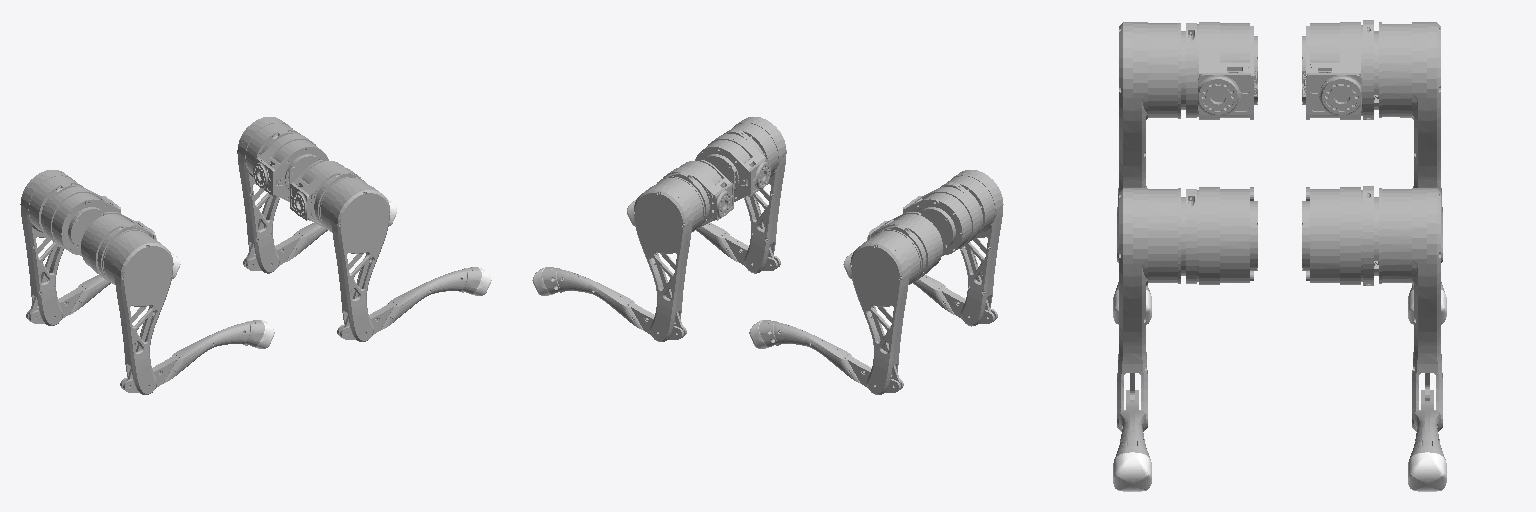
URDF robot description (TOE_dog4.5):
<?xml version="1.0" encoding="utf-8"?>
<!-- This URDF was automatically created by SolidWorks to URDF Exporter! Originally created by Stephen Brawner (brawner@gmail.com)
     Commit Version: 1.6.0-4-g7f85cfe  Build Version: 1.6.7995.38578
     For more information, please see http://wiki.ros.org/sw_urdf_exporter -->
<robot
  name="TOE_dog4.5">
  <!-- <mujoco>
    <compiler
      meshdir="/home/asuka/TOE_dog4.5/stl"
      balanceinertia="true"
      discardvisual="false" />
  </mujoco> -->
  <link
    name="base_link">
    <inertial>
      <origin
        xyz="0.00295211474088308 -0.00192758854859915 -0.0102792040045774"
        rpy="0 0 0" />
      <mass
        value="5.835083" />
      <inertia
        ixx="0.025133"
        ixy="-0.000027"
        ixz="-0.000108"
        iyy="0.056604"
        iyz="0.000094"
        izz="0.068111" />
    </inertial>
    <visual>
      <origin
        xyz="-0.19 0.1154 -0.09"
        rpy="0  0 -1.57" />
      <geometry>
        <mesh
          filename="../stl/base_link.STL" />
      </geometry>
      <material
        name="">
        <color
          rgba="0.752941176470588 0.752941176470588 0.752941176470588 1" />
      </material>
    </visual>
    <collision>
      <origin xyz="0 0 0" rpy="0 0 0" />
      <geometry>
        <box size="0.27 0.23 0.12" />
      </geometry>
    </collision>
  </link>
  <link
    name="FL_hip">
    <inertial>
      <origin
        xyz="-0.0070649037850703 0.00658510863124429 0.000124398434989126"
        rpy="0 0 0" />
      <mass value="0.905192" />
      <inertia ixx="0.000895" ixy="-0.000017" ixz="-0.000001" iyy="0.00122" iyz="-0.000005" izz="0.001044" />
    </inertial>
    <visual>
      <origin
        xyz="0 0 0"
        rpy="0 0 0" />
      <geometry>
        <mesh
          filename="../stl/L_hip.STL" />
      </geometry>
      <material
        name="">
        <color
          rgba="0.752941176470588 0.752941176470588 0.752941176470588 1" />
      </material>
    </visual>
    <collision>
      <origin xyz="0 0.050 0" rpy="1.5707963 0 0" />
      <geometry>
        <cylinder radius="0.047" length="0.09" />
      </geometry>
    </collision>
  </link>
  <joint
    name="FL_hip_joint"
    type="revolute">
    <origin
      xyz="0.2 0.05655 0"
      rpy="0 0 0" />
    <parent
      link="base_link" />
    <child
      link="FL_hip" />
    <axis
      xyz="1 0 0" />
    <limit
      lower="-1"
      upper="1"
      effort="20"
      velocity="40" />
  </joint>
  <link
    name="FL_thigh">
    <inertial>
      <origin
        xyz="-0.00135206355313233 -0.0159551638652642 -0.030433008704901"
        rpy="0 0 0" />
      <mass value="1.1875" />
      <inertia ixx="0.004627" ixy="0.000016" ixz="-0.000122" iyy="0.004766" iyz="0.000582" izz="0.001153" />
    </inertial>
    <visual>
      <origin
        xyz="0 0 0"
        rpy="0 0 0" />
      <geometry>
        <mesh
          filename="../stl/L_thigh.STL" />
      </geometry>
      <material
        name="">
        <color
          rgba="0.752941176470588 0.752941176470588 0.752941176470588 1" />
      </material>
    </visual>
    <collision>
      <origin rpy="0 1.5707963267948966 0" xyz="0 0 -0.1065" />
      <geometry>
        <box size="0.11 0.0245 0.034" />
      </geometry>
    </collision>
  </link>
  <joint
    name="FL_thigh_joint"
    type="revolute">
    <origin
      xyz="0 0.09375 0"
      rpy="0 0 0" />
    <parent
      link="FL_hip" />
    <child
      link="FL_thigh" />
    <axis
      xyz="0 1 0" />
    <limit
      lower="-1.5"
      upper="2.5"
      effort="20"
      velocity="40" />
  </joint>
  <link
    name="FL_calf">
    <inertial>
      <origin
        xyz="0.00851686816696473 -3.8125943102596E-05 -0.0883637852735144"
        rpy="0 0 0" />
      <mass value="0.196203" />
      <inertia ixx="0.001147" ixy="0" ixz="0.000053" iyy="0.001159" iyz="-0.0000001" izz="0.000027" />
    </inertial>
    <visual>
      <origin
        xyz="0 0 0"
        rpy="0 0 0" />
      <geometry>
        <mesh
          filename="../stl/L_calf.STL" />
      </geometry>
      <material
        name="">
        <color
          rgba="0.752941176470588 0.752941176470588 0.752941176470588 1" />
      </material>
    </visual>
    <collision>
      <origin rpy="0 -0.21 0" xyz="0.008 0 -0.05" />
      <geometry>
        <cylinder length="0.12" radius="0.012" />
      </geometry>
    </collision>
  </link>
  <joint
    name="FL_calf_joint"
    type="revolute">
    <origin
      xyz="0 0 -0.2"
      rpy="0 0 0" />
    <parent
      link="FL_thigh" />
    <child
      link="FL_calf" />
    <axis
      xyz="0 1 0" />
    <limit
      lower="-2.7"
      upper="-0.8"
      effort="30"
      velocity="26.66" />
  </joint>
  <link
    name="FL_calflower">
    <collision>
      <origin rpy="0 0 0" xyz="0 0 -0.01" />
      <geometry>
        <cylinder length="0.065" radius="0.011" />
      </geometry>
    </collision>
  </link>
  <joint
    name="FL_calflower_joint"
    type="fixed">
    <origin
      xyz="0.020336 0 -0.1284"
      rpy="0 0.05 0" />
    <parent
      link="FL_calf" />
    <child
      link="FL_calflower" />
    <axis
      xyz="0 0 0" />
  </joint>
  <link
    name="FL_calflower1">
    <collision>
      <origin rpy="0 0 0" xyz="-0.005 0 0" />
      <geometry>
        <cylinder length="0.03" radius="0.014" />
      </geometry>
    </collision>
  </link>
  <joint
    name="FL_calflower1_joint"
    type="fixed">
    <origin
      xyz="-0.0041978 0 -0.054377"
      rpy="0 0.48 0" />
    <parent
      link="FL_calflower" />
    <child
      link="FL_calflower1" />
    <axis
      xyz="0 0 0" />
  </joint>
  <link
    name="FL_foot">
    <inertial>
      <origin
        xyz="-0.00637750247419655 4.44527681331408E-07 -0.00786858131084206"
        rpy="0 0 0" />
      <mass value="0.032191" />
      <inertia
        ixx="0.000006" ixy="0" ixz="0.000001"
        iyy="0.000005" iyz="0" izz="0.000006" />
    </inertial>
    <visual>
      <origin
        xyz="0 0 0"
        rpy="0 0 0" />
      <geometry>
        <mesh
          filename="../stl/foot.STL" />
      </geometry>
      <material
        name="">
        <color
          rgba="1 1 1 1" />
      </material>
    </visual>
    <collision>
      <origin rpy="0 0 0" xyz="-0.002 0 0" />
      <geometry>
        <sphere radius="0.022" />
      </geometry>
    </collision>
  </link>
  <joint
    name="FL_foot_joint"
    type="fixed" dont_collapse="true">
    <origin
      xyz="0.00070371 0 -0.21118"
      rpy="0 0 0" />
    <parent
      link="FL_calf" />
    <child
      link="FL_foot" />
    <axis
      xyz="0 0 0" />
  </joint>
  <link
    name="FR_hip">
    <inertial>
      <origin
        xyz="-0.00706490377828217 -0.00658510863374012 -0.000124398433844708"
        rpy="0 0 0" />
      <mass
        value="0.905192" />
      <inertia
        ixx="0.000895"
        ixy="0.000017"
        ixz="0.000001"
        iyy="0.001220"
        iyz="-0.000005"
        izz="0.001044" />
    </inertial>
    <visual>
      <origin
        xyz="0 0 0"
        rpy="3.1415 3.1415 0" />
      <geometry>
        <mesh
          filename="../stl/R_hip.STL" />
      </geometry>
      <material
        name="">
        <color
          rgba="0.752941176470588 0.752941176470588 0.752941176470588 1" />
      </material>
    </visual>
    <collision>
      <origin xyz="0 -0.050 0" rpy="1.5707963 0 0" />
      <geometry>
        <cylinder radius="0.047" length="0.09" />
      </geometry>
    </collision>
  </link>
  <joint
    name="FR_hip_joint"
    type="revolute">
    <origin
      xyz="0.2 -0.05655 0"
      rpy="0 0 0" />
    <parent
      link="base_link" />
    <child
      link="FR_hip" />
    <axis
      xyz="1 0 0" />
    <limit
      lower="-1"
      upper="1"
      effort="20"
      velocity="40" />
  </joint>
  <link
    name="FR_thigh">
    <inertial>
      <origin
        xyz="-0.00109948718638164 0.0159536868914454 -0.0304842650576034"
        rpy="0 0 0" />
      <mass value="1.1875" />
      <inertia
        ixx="0.004627" ixy="-0.000016" ixz="-0.000122"
        iyy="0.004766" iyz="-0.000582" izz="0.001153" />
    </inertial>
    <visual>
      <origin
        xyz="0 0 0"
        rpy="0 0 0" />
      <geometry>
        <mesh
          filename="../stl/R_thigh.STL" />
      </geometry>
      <material
        name="">
        <color
          rgba="0.752941176470588 0.752941176470588 0.752941176470588 1" />
      </material>
    </visual>
    <collision>
      <origin rpy="0 1.5707963267948966 0" xyz="0 0 -0.1065" />
      <geometry>
        <box size="0.11 0.0245 0.034" />
      </geometry>
    </collision>
  </link>
  <joint
    name="FR_thigh_joint"
    type="revolute">
    <origin
      xyz="0 -0.09375 0"
      rpy="0 0 0" />
    <parent
      link="FR_hip" />
    <child
      link="FR_thigh" />
    <axis
      xyz="0 1 0" />
    <limit
      lower="-1.5"
      upper="2.5"
      effort="20"
      velocity="40" />
  </joint>
  <link
    name="FR_calf">
    <inertial>
      <origin
        xyz="0.00851686816696651 -3.81259431023739E-05 -0.0883637852735194"
        rpy="0 0 0" />
      <mass value="0.196203" />
      <inertia
        ixx="0.001147" ixy="0" ixz="0.000053"
        iyy="0.001159" iyz="-0.0000001" izz="0.000027" />
    </inertial>
    <visual>
      <origin
        xyz="0 0 0"
        rpy="0 0 0" />
      <geometry>
        <mesh
          filename="../stl/R_calf.STL" />
      </geometry>
      <material
        name="">
        <color
          rgba="0.752941176470588 0.752941176470588 0.752941176470588 1" />
      </material>
    </visual>
    <collision>
      <origin rpy="0 -0.21 0" xyz="0.008 0 -0.05" />
      <geometry>
        <cylinder length="0.12" radius="0.012" />
      </geometry>
    </collision>
  </link>
  <joint
    name="FR_calf_joint"
    type="revolute">
    <origin
      xyz="0 0 -0.2"
      rpy="0 0 0" />
    <parent
      link="FR_thigh" />
    <child
      link="FR_calf" />
    <axis
      xyz="0 1 0" />
    <limit
      lower="-2.7"
      upper="-0.8"
      effort="30"
      velocity="26.66" />
  </joint>
  <link
    name="FR_calflower">
    <collision>
      <origin rpy="0 0 0" xyz="0 0 -0.01" />
      <geometry>
        <cylinder length="0.065" radius="0.011" />
      </geometry>
    </collision>
  </link>
  <joint
    name="FR_calflower_joint"
    type="fixed">
    <origin
      xyz="0.020336 0 -0.1284"
      rpy="0 0 0" />
    <parent
      link="FR_calf" />
    <child
      link="FR_calflower" />
    <axis
      xyz="0 0 0" />
  </joint>
  <link
    name="FR_calflower1">
    <collision>
      <origin rpy="0 0 0" xyz="-0.005 0 0" />
      <geometry>
        <cylinder length="0.03" radius="0.014" />
      </geometry>
    </collision>
  </link>
  <joint
    name="FR_calflower1_joint"
    type="fixed">
    <origin
      xyz="-0.0041978 0 -0.054377"
      rpy="0 0.48 0" />
    <parent
      link="FR_calflower" />
    <child
      link="FR_calflower1" />
    <axis
      xyz="0 0 0" />
  </joint>
  <link
    name="FR_foot">
    <inertial>
      <origin
        xyz="-0.00637750247419699 4.44527681164875E-07 -0.00786858131084245"
        rpy="0 0 0" />
      <mass value="0.032191" />
      <inertia
        ixx="0.000006" ixy="0" ixz="0.000001"
        iyy="0.000005" iyz="0" izz="0.000006" />
    </inertial>
    <visual>
      <origin
        xyz="0 0 0"
        rpy="0 0 0" />
      <geometry>
        <mesh
          filename="../stl/foot.STL" />
      </geometry>
      <material
        name="">
        <color
          rgba="1 1 1 1" />
      </material>
    </visual>
    <collision>
      <origin rpy="0 0 0" xyz="-0.002 0 0" />
      <geometry>
        <sphere radius="0.022" />
      </geometry>
    </collision>
  </link>
  <joint
    name="FR_foot_joint"
    type="fixed" dont_collapse="true">
    <origin
      xyz="0.00070371 0 -0.21118"
      rpy="0 0 0" />
    <parent
      link="FR_calf" />
    <child
      link="FR_foot" />
    <axis
      xyz="0 0 0" />
  </joint>
  <link
    name="RL_hip">
    <inertial>
      <origin
        xyz="0.00706490378507074 0.0065851086312444 -0.000124398434989237"
        rpy="0 0 0" />
      <mass
        value="0.905192" />
      <inertia
        ixx="0.000895"
        ixy="0.000017"
        ixz="-0.000001"
        iyy="0.001220"
        iyz="0.000005"
        izz="0.001044" />
    </inertial>
    <visual>
      <origin
        xyz="0 0 0"
        rpy="0 3.1415 0" />
      <geometry>
        <mesh
          filename="../stl/L_hip.STL" />
      </geometry>
      <material
        name="">
        <color
          rgba="0.752941176470588 0.752941176470588 0.752941176470588 1" />
      </material>
    </visual>
    <collision>
      <origin xyz="0 0.050 0" rpy="1.5707963 0 0" />
      <geometry>
        <cylinder radius="0.047" length="0.09" />
      </geometry>
    </collision>
  </link>
  <joint
    name="RL_hip_joint"
    type="revolute">
    <origin
      xyz="-0.2 0.05655 0"
      rpy="0 0 0" />
    <parent
      link="base_link" />
    <child
      link="RL_hip" />
    <axis
      xyz="1 0 0" />
    <limit
      lower="-1"
      upper="1"
      effort="20"
      velocity="40" />
  </joint>
  <link
    name="RL_thigh">
    <inertial>
      <origin
        xyz="-0.00135206356223971 -0.0159551638624648 -0.0304330087093035"
        rpy="0 0 0" />
      <mass value="1.1875" />
      <inertia
        ixx="0.004627" ixy="0.000016" ixz="-0.000122"
        iyy="0.004766" iyz="0.000582" izz="0.001153" />
    </inertial>
    <visual>
      <origin
        xyz="0 0 0"
        rpy="0 0 0" />
      <geometry>
        <mesh
          filename="../stl/L_thigh.STL" />
      </geometry>
      <material
        name="">
        <color
          rgba="0.752941176470588 0.752941176470588 0.752941176470588 1" />
      </material>
    </visual>
    <collision>
      <origin rpy="0 1.5707963267948966 0" xyz="0 0 -0.1065" />
      <geometry>
        <box size="0.11 0.0245 0.034" />
      </geometry>
    </collision>
  </link>
  <joint
    name="RL_thigh_joint"
    type="revolute">
    <origin
      xyz="0 0.09375 0"
      rpy="0 0 0" />
    <parent
      link="RL_hip" />
    <child
      link="RL_thigh" />
    <axis
      xyz="0 1 0" />
    <limit
      lower="-1.5"
      upper="2.5"
      effort="20"
      velocity="40" />
  </joint>
  <link
    name="RL_calf">
    <inertial>
      <origin
        xyz="0.00851686829244258 -3.81258157938769E-05 -0.0883637841657129"
        rpy="0 0 0" />
      <mass value="0.196203" />
      <inertia
        ixx="0.001147" ixy="0" ixz="0.000053"
        iyy="0.001159" iyz="-0.0000001" izz="0.000027" />
    </inertial>
    <visual>
      <origin
        xyz="0 0 0"
        rpy="0 0 0" />
      <geometry>
        <mesh
          filename="../stl/L_calf.STL" />
      </geometry>
      <material
        name="">
        <color
          rgba="0.752941176470588 0.752941176470588 0.752941176470588 1" />
      </material>
    </visual>
    <collision>
      <origin rpy="0 -0.21 0" xyz="0.008 0 -0.05" />
      <geometry>
        <cylinder length="0.12" radius="0.012" />
      </geometry>
    </collision>
  </link>
  <joint
    name="RL_calf_joint"
    type="revolute">
    <origin
      xyz="0 0 -0.2"
      rpy="0 0 0" />
    <parent
      link="RL_thigh" />
    <child
      link="RL_calf" />
    <axis
      xyz="0 1 0" />
    <limit
      lower="-2.7"
      upper="-0.8"
      effort="30"
      velocity="26.66" />
  </joint>
  <link
    name="RL_calflower">
    <collision>
      <origin rpy="0 0 0" xyz="0 0 -0.01" />
      <geometry>
        <cylinder length="0.065" radius="0.011" />
      </geometry>
    </collision>
  </link>
  <joint
    name="RL_calflower_joint"
    type="fixed">
    <origin
      xyz="0.020336 0 -0.1284"
      rpy="0 0 0" />
    <parent
      link="RL_calf" />
    <child
      link="RL_calflower" />
    <axis
      xyz="0 0 0" />
  </joint>
  <link
    name="RL_calflower1">
    <collision>
      <origin rpy="0 0 0" xyz="-0.005 0 0" />
      <geometry>
        <cylinder length="0.03" radius="0.014" />
      </geometry>
    </collision>
  </link>
  <joint
    name="RL_calflower1_joint"
    type="fixed">
    <origin
      xyz="-0.00419775183001625 0 -0.0543773042048761"
      rpy="0 0.48 0" />
    <parent
      link="RL_calflower" />
    <child
      link="RL_calflower1" />
    <axis
      xyz="0 0 0" />
  </joint>
  <link
    name="RL_foot">
    <inertial>
      <origin
        xyz="-0.00637750247419699 4.44528015175472E-07 -0.00786858131084212"
        rpy="0 0 0" />
      <mass value="0.032191" />
      <inertia
        ixx="0.000006" ixy="0" ixz="0.000001"
        iyy="0.000005" iyz="0" izz="0.000006" />
    </inertial>
    <visual>
      <origin
        xyz="0 0 0"
        rpy="0 0 0" />
      <geometry>
        <mesh
          filename="../stl/foot.STL" />
      </geometry>
      <material
        name="">
        <color
          rgba="1 1 1 1" />
      </material>
    </visual>
    <collision>
      <origin rpy="0 0 0" xyz="-0.002 0 0" />
      <geometry>
        <sphere radius="0.022" />
      </geometry>
    </collision>
  </link>
  <joint
    name="RL_foot_joint"
    type="fixed" dont_collapse="true">
    <origin
      xyz="0.00070371 0 -0.21118"
      rpy="0 0 0" />
    <parent
      link="RL_calf" />
    <child
      link="RL_foot" />
    <axis
      xyz="0.61564 0 0.78803" />
  </joint>
  <link
    name="RR_hip">
    <inertial>
      <origin
        xyz="0.00706490378507074 -0.00658510863124412 0.000124398434997008"
        rpy="0 0 0" />
      <mass
        value="0.905192" />
      <inertia
        ixx="0.000895"
        ixy="-0.000017"
        ixz="0.000001"
        iyy="0.001220"
        iyz="0.000005"
        izz="0.001044" />
    </inertial>
    <visual>
      <origin
        xyz="0 0 0"
        rpy="3.1415 0 0" />
      <geometry>
        <mesh
          filename="../stl/R_hip.STL" />
      </geometry>
      <material
        name="">
        <color
          rgba="0.752941176470588 0.752941176470588 0.752941176470588 1" />
      </material>
    </visual>
    <collision>
      <origin xyz="0 -0.050 0" rpy="1.5707963 0 0" />
      <geometry>
        <cylinder radius="0.047" length="0.09" />
      </geometry>
    </collision>
  </link>
  <joint
    name="RR_hip_joint"
    type="revolute">
    <origin
      xyz="-0.2 -0.05655 0"
      rpy="0 0 0" />
    <parent
      link="base_link" />
    <child
      link="RR_hip" />
    <axis
      xyz="1 0 0" />
    <limit
      lower="-1"
      upper="1"
      effort="20"
      velocity="40" />
  </joint>
  <link
    name="RR_thigh">
    <inertial>
      <origin
        xyz="-0.00109948718484398 0.0159536868935053 -0.0304842650623403"
        rpy="0 0 0" />
      <mass value="1.1875" />
      <inertia
        ixx="0.004627" ixy="-0.000016" ixz="-0.000122"
        iyy="0.004766" iyz="-0.000582" izz="0.001153" />
    </inertial>
    <visual>
      <origin
        xyz="0 0 0"
        rpy="0 0 0" />
      <geometry>
        <mesh
          filename="../stl/R_thigh.STL" />
      </geometry>
      <material
        name="">
        <color
          rgba="0.752941176470588 0.752941176470588 0.752941176470588 1" />
      </material>
    </visual>
    <collision>
      <origin rpy="0 1.5707963267948966 0" xyz="0 0 -0.1065" />
      <geometry>
        <box size="0.11 0.0245 0.034" />
      </geometry>
    </collision>
  </link>
  <joint
    name="RR_thigh_joint"
    type="revolute">
    <origin
      xyz="0 -0.09375 0"
      rpy="0 0 0" />
    <parent
      link="RR_hip" />
    <child
      link="RR_thigh" />
    <axis
      xyz="0 1 0" />
    <limit
      lower="-1.5"
      upper="2.5"
      effort="20"
      velocity="40" />
  </joint>
  <link
    name="RR_calf">
    <inertial>
      <origin
        xyz="0.00851686816696606 -3.81259432026271E-05 -0.0883637852735176"
        rpy="0 0 0" />
      <mass value="0.196203" />
      <inertia
        ixx="0.001147" ixy="0" ixz="0.000053"
        iyy="0.001159" iyz="-0.0000001" izz="0.000027" />
    </inertial>
    <visual>
      <origin
        xyz="0 0 0"
        rpy="0 0 0" />
      <geometry>
        <mesh
          filename="../stl/R_calf.STL" />
      </geometry>
      <material
        name="">
        <color
          rgba="0.752941176470588 0.752941176470588 0.752941176470588 1" />
      </material>
    </visual>
    <collision>
      <origin rpy="0 -0.21 0" xyz="0.008 0 -0.05" />
      <geometry>
        <cylinder length="0.12" radius="0.012" />
      </geometry>
    </collision>
  </link>
  <joint
    name="RR_calf_joint"
    type="revolute">
    <origin
      xyz="0 0 -0.2"
      rpy="0 0 0" />
    <parent
      link="RR_thigh" />
    <child
      link="RR_calf" />
    <axis
      xyz="0 1 0" />
    <limit
      lower="-2.7"
      upper="-0.8"
      effort="30"
      velocity="26.66" />
  </joint>
  <link
    name="RR_calflower">
    <collision>
      <origin rpy="0 0 0" xyz="0 0 -0.01" />
      <geometry>
        <cylinder length="0.065" radius="0.011" />
      </geometry>
    </collision>
  </link>
  <joint
    name="RR_calflower_joint"
    type="fixed">
    <origin
      xyz="0.020336 0 -0.1284"
      rpy="0 0 0" />
    <parent
      link="RR_calf" />
    <child
      link="RR_calflower" />
    <axis
      xyz="0 0 0" />
  </joint>
  <link
    name="RR_calflower1">
    <collision>
      <origin rpy="0 0 0" xyz="-0.005 0 0" />
      <geometry>
        <cylinder length="0.03" radius="0.014" />
      </geometry>
    </collision>
  </link>
  <joint
    name="RR_calflower1_joint"
    type="fixed">
    <origin
      xyz="-0.00419775183001625 0 -0.0543773042048761"
      rpy="0 0.48 0" />
    <parent
      link="RR_calflower" />
    <child
      link="RR_calflower1" />
    <axis
      xyz="0 0 0" />
  </joint>
  <link
    name="RR_foot">
    <inertial>
      <origin
        xyz="-0.00637750247419699 4.44527681164875E-07 -0.00786858131084245"
        rpy="0 0 0" />
      <mass value="0.032191" />
      <inertia
        ixx="0.000006" ixy="0" ixz="0.000001"
        iyy="0.000005" iyz="0" izz="0.000006" />
    </inertial>
    <visual>
      <origin
        xyz="0 0 0"
        rpy="0 0 0" />
      <geometry>
        <mesh
          filename="../stl/foot.STL" />
      </geometry>
      <material
        name="">
        <color
          rgba="1 1 1 1" />
      </material>
    </visual>
    <collision>
      <origin rpy="0 0 0" xyz="-0.002 0 0" />
      <geometry>
        <sphere radius="0.022" />
      </geometry>
    </collision>
  </link>
  <joint
    name="RR_foot_joint"
    type="fixed" dont_collapse="true">
    <origin
      xyz="0.00070371 0 -0.21118"
      rpy="0 0 0" />
    <parent
      link="RR_calf" />
    <child
      link="RR_foot" />
    <axis
      xyz="0 0 0" />
  </joint>
</robot>

--- What the picture shows (computed from the rendered views, not written in the file) ---
Views: 3 orthographic renders of the robot side by side, from view 1: azimuth 30°, elevation 25°; view 2: azimuth 150°, elevation 25°; view 3: azimuth 270°, elevation 25°.
Robot: TOE_dog4.5 — 25 links, 24 joints (12 revolute, 12 fixed); root link base_link; default pose: all joints at 0 but 4 set to mid-range because 0 is outside their limits (FL_calf_joint = -1.75, FR_calf_joint = -1.75, RL_calf_joint = -1.75, RR_calf_joint = -1.75).
Links seen in each view (by area): view 1: RR_thigh, FR_thigh, RL_thigh, FL_thigh, RL_hip, FL_hip, FR_calf, RR_calf, FR_hip, RR_hip, RL_calf, FL_calf; view 2: RL_thigh, FL_thigh, RR_thigh, FR_thigh, RR_hip, FR_hip, FL_calf, RL_calf, FL_hip, RL_hip, RR_calf, FR_calf; view 3: FL_thigh, FR_thigh, RL_thigh, RR_thigh, RR_hip, RL_hip, FL_hip, FR_hip, FL_foot, FR_foot, FL_calf, FR_calf.
Link boxes in pixels (<box>): RR_thigh: <box>98,224,173,394</box>; FR_thigh: <box>315,171,389,341</box>; RL_thigh: <box>20,170,83,325</box>; FL_thigh: <box>237,117,300,273</box>; RL_hip: <box>44,187,120,255</box>; FL_hip: <box>253,134,328,201</box>; FR_calf: <box>337,267,481,339</box>; RR_calf: <box>120,320,264,392</box>; FR_hip: <box>290,160,360,227</box>; RR_hip: <box>81,212,156,280</box>; RL_calf: <box>26,275,110,323</box>; FL_calf: <box>243,223,327,270</box>; RL_thigh: <box>850,224,925,394</box>; FL_thigh: <box>634,171,708,341</box>; RR_thigh: <box>940,170,1003,326</box>; FR_thigh: <box>723,117,786,273</box>; RR_hip: <box>903,187,979,255</box>; FR_hip: <box>695,134,770,201</box>; FL_calf: <box>542,267,686,339</box>; RL_calf: <box>759,320,903,392</box>; FL_hip: <box>663,160,733,227</box>; RL_hip: <box>867,212,942,280</box>; RR_calf: <box>913,275,997,323</box>; FR_calf: <box>696,223,780,270</box>; FL_thigh: <box>1363,186,1442,429</box>; FR_thigh: <box>1117,188,1196,429</box>; RL_thigh: <box>1363,20,1442,262</box>; RR_thigh: <box>1117,22,1196,262</box>; RR_hip: <box>1197,22,1257,119</box>; RL_hip: <box>1302,22,1362,119</box>; FL_hip: <box>1302,187,1362,284</box>; FR_hip: <box>1197,187,1257,284</box>; FL_foot: <box>1408,452,1446,491</box>; FR_foot: <box>1113,452,1151,491</box>; FL_calf: <box>1409,390,1445,459</box>; FR_calf: <box>1114,390,1150,459</box>.
Bounding box of the posed robot: 0.6822 × 0.3406 × 0.2696 m (x, y, z).
Meshes: 8 distinct files referenced, 16 mesh visuals loaded (7 binary STL); not drawn: 1 (reference not matched to a file when rendering).
